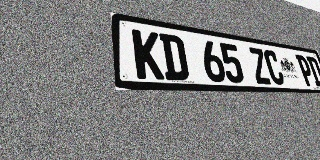5: (219, 42, 246, 83)
6: (199, 39, 227, 82)
C: (262, 49, 286, 85)
D: (159, 33, 190, 81), (306, 56, 320, 87)
K: (132, 29, 165, 80)
P: (295, 54, 316, 86)
Z: (247, 47, 272, 84)
